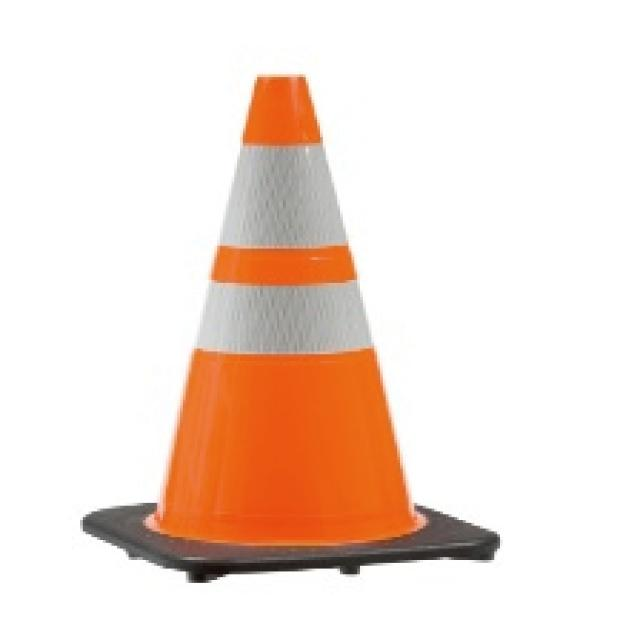cone: (79, 68, 506, 583)
